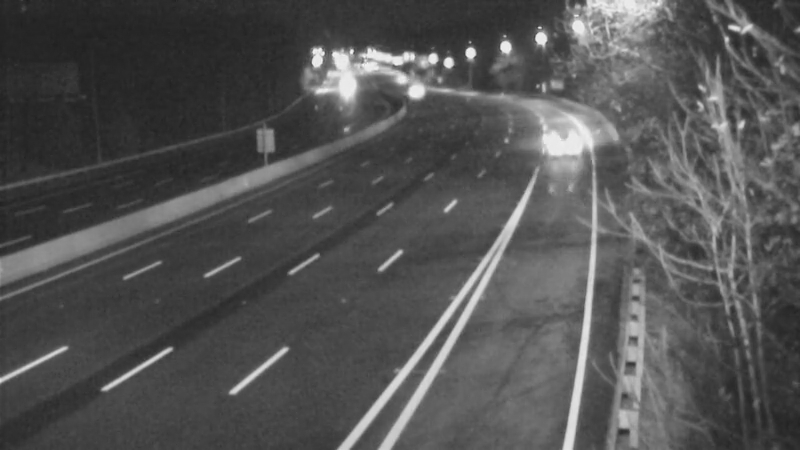vehicle: (377, 54, 427, 104), (390, 66, 440, 116), (536, 115, 586, 165)
